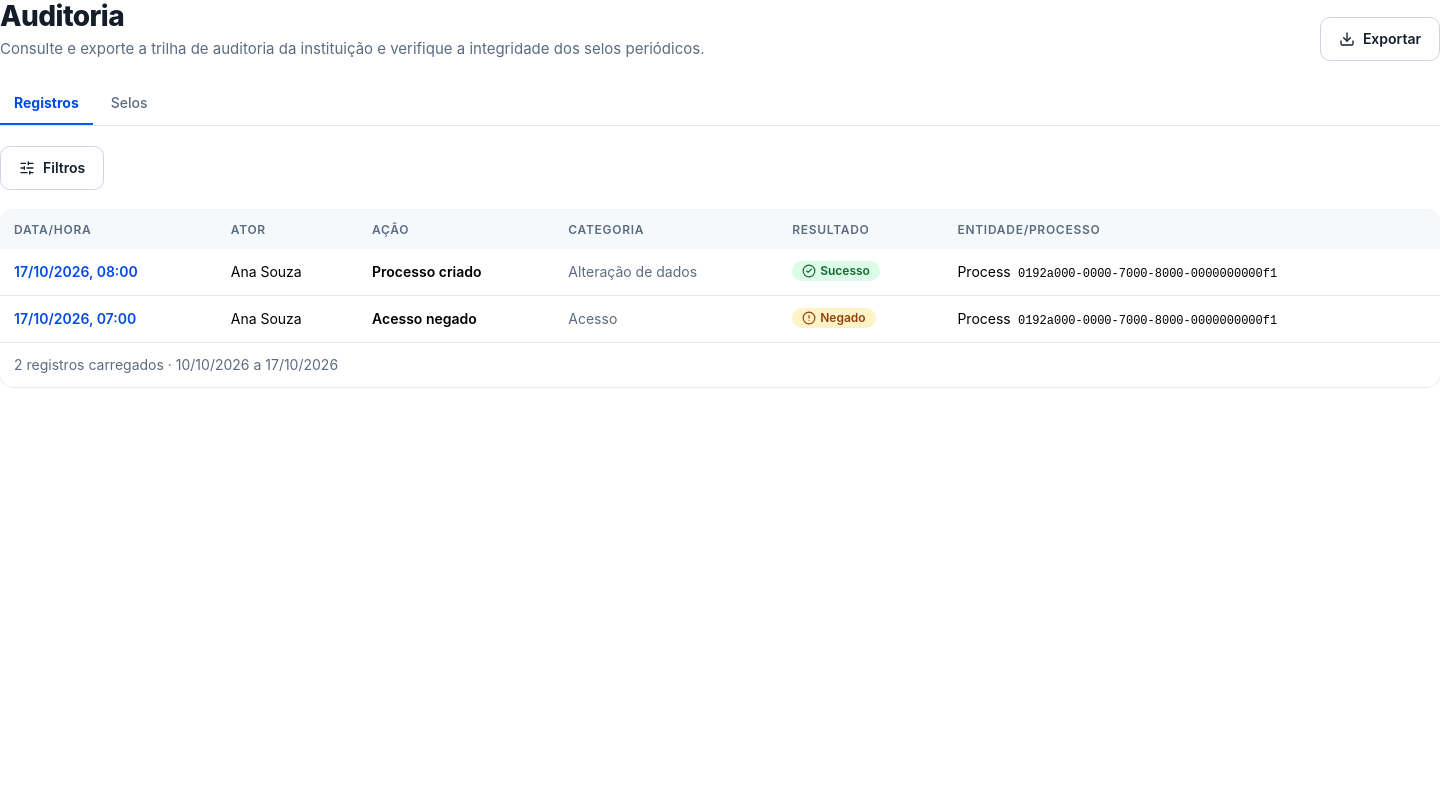
Test: [Sucesso] pesquisar e ver o detalhe (SCR-037 · AUD-01/AUD-02) › filtrar por ação envia a ação e o período; a lista mostra só o que a API devolveu
Expected: the table named "Registros da trilha de auditoria" is shown, [0, 210, 1439, 342]
Click the button "Filtros" at [52, 168], box [0, 146, 104, 190]
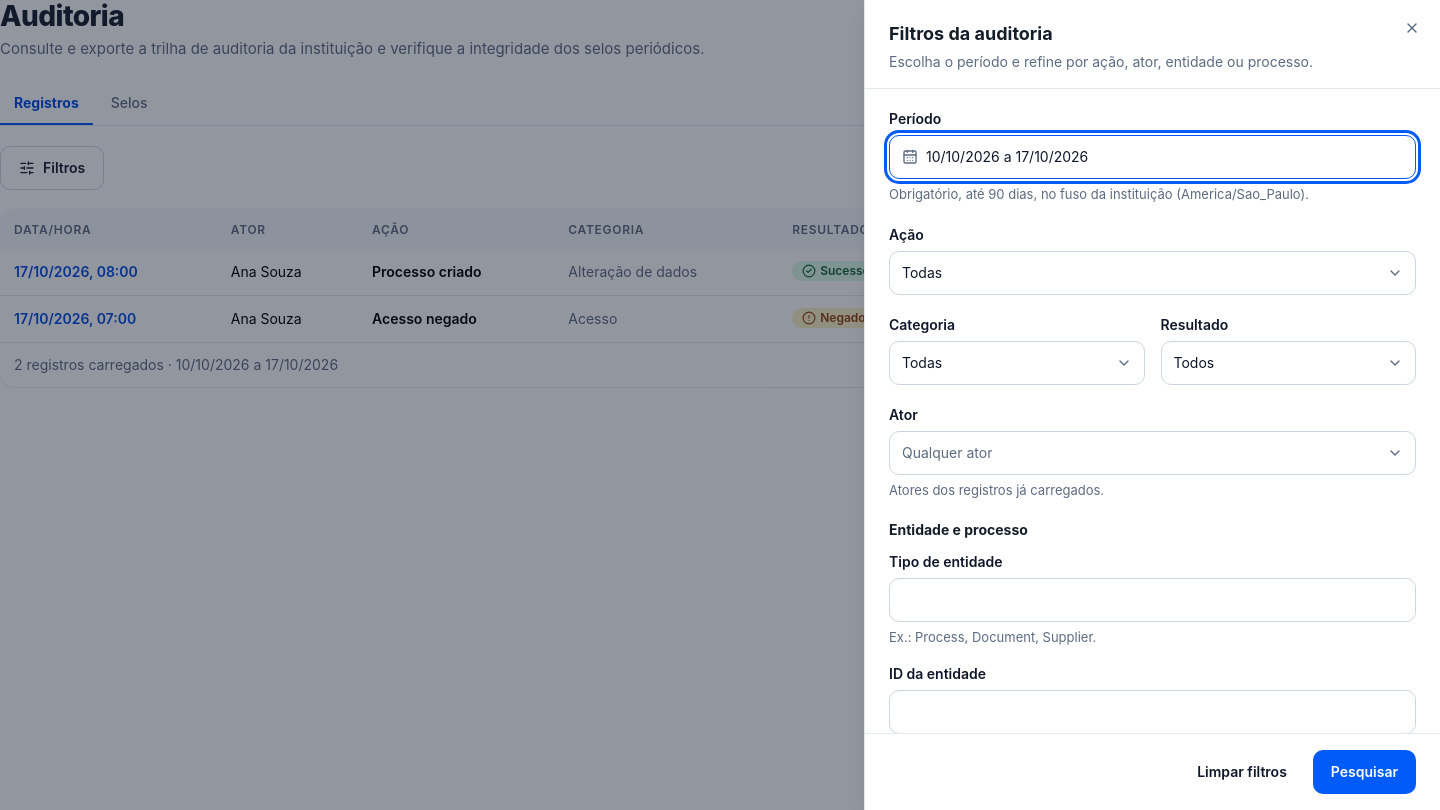
Click the dropdown named "Ação" at [922, 272], box [889, 250, 1416, 294]
(page scrolled)
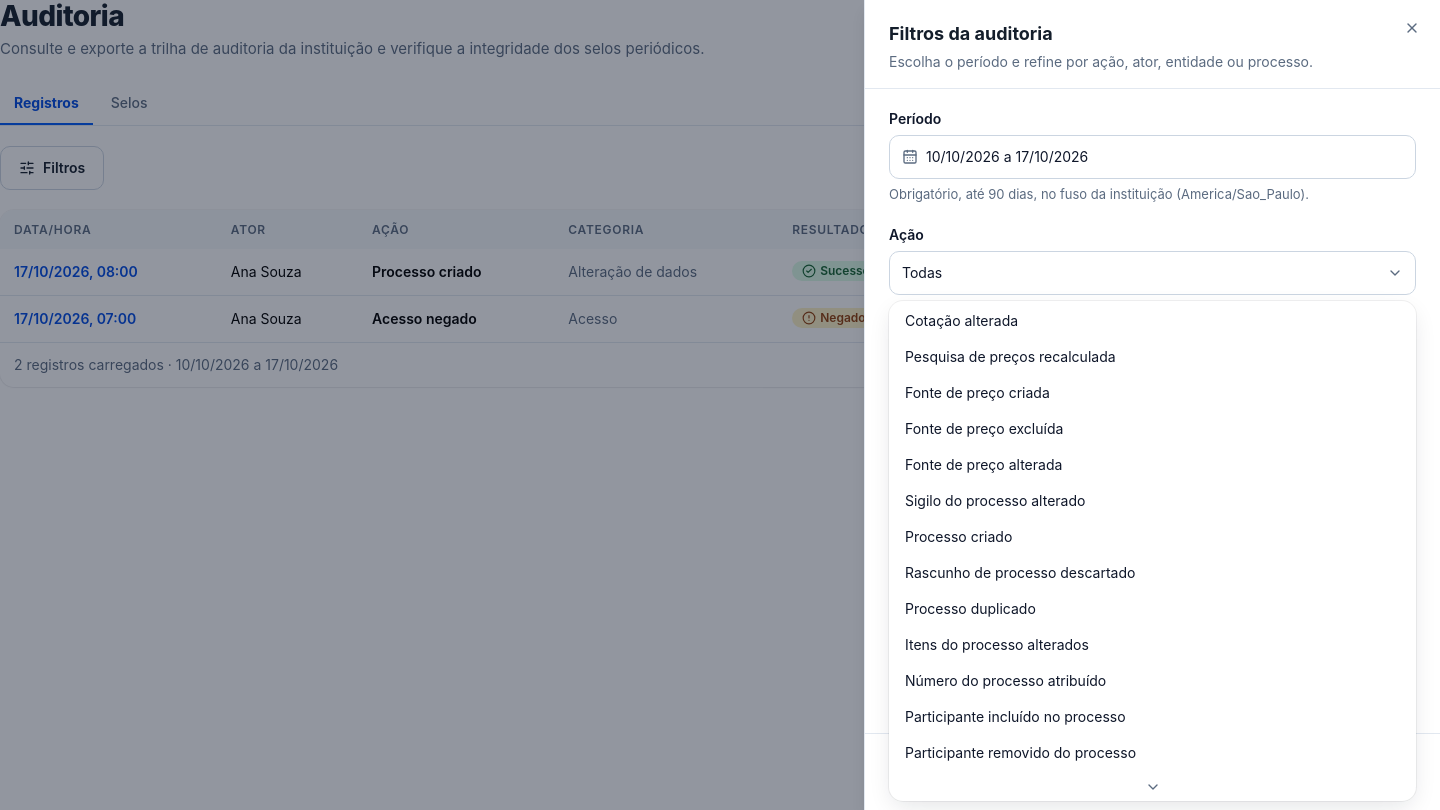
Click the option "Processo criado" at [959, 536], box [905, 528, 1012, 545]
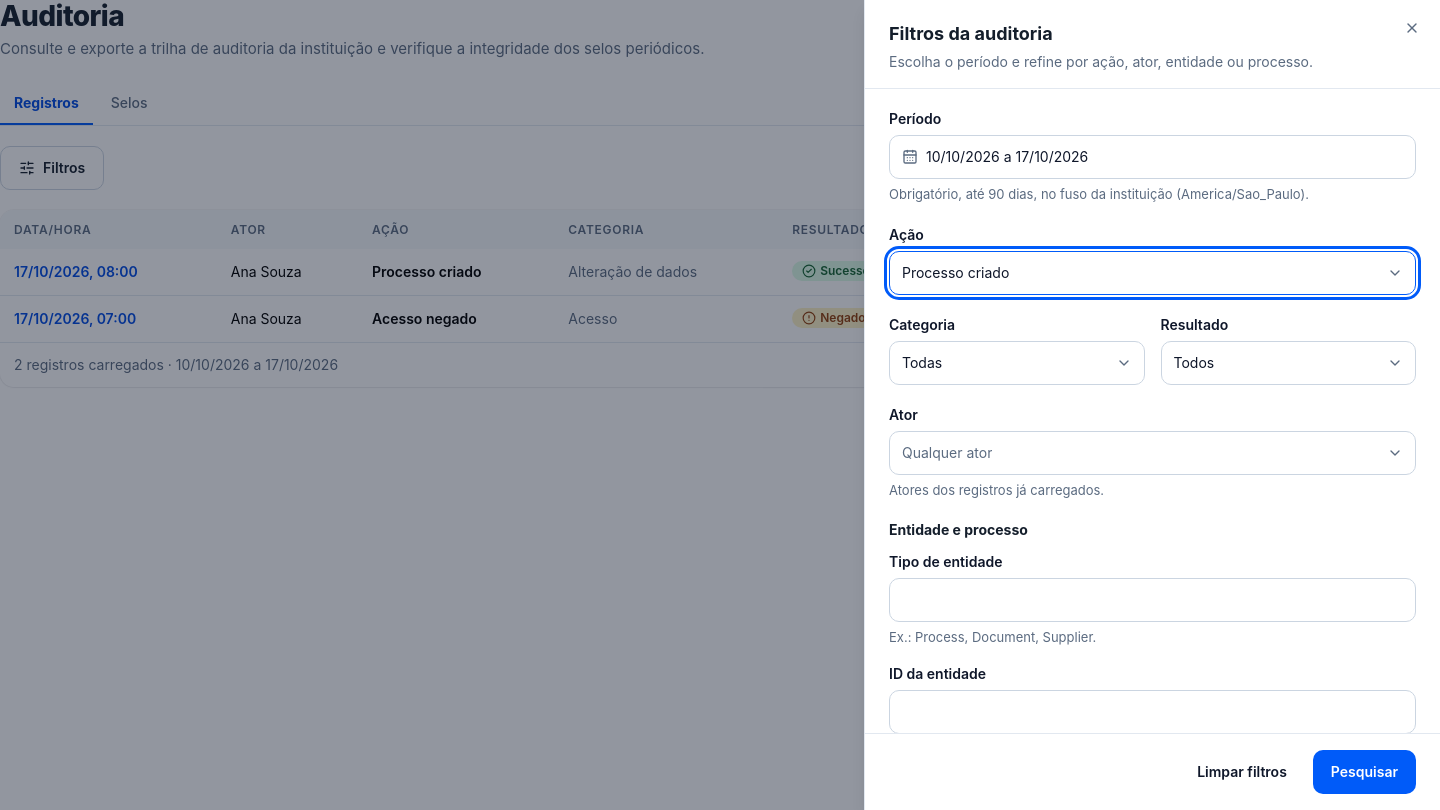
Click the button "Pesquisar" at [1364, 772], box [1313, 750, 1416, 794]
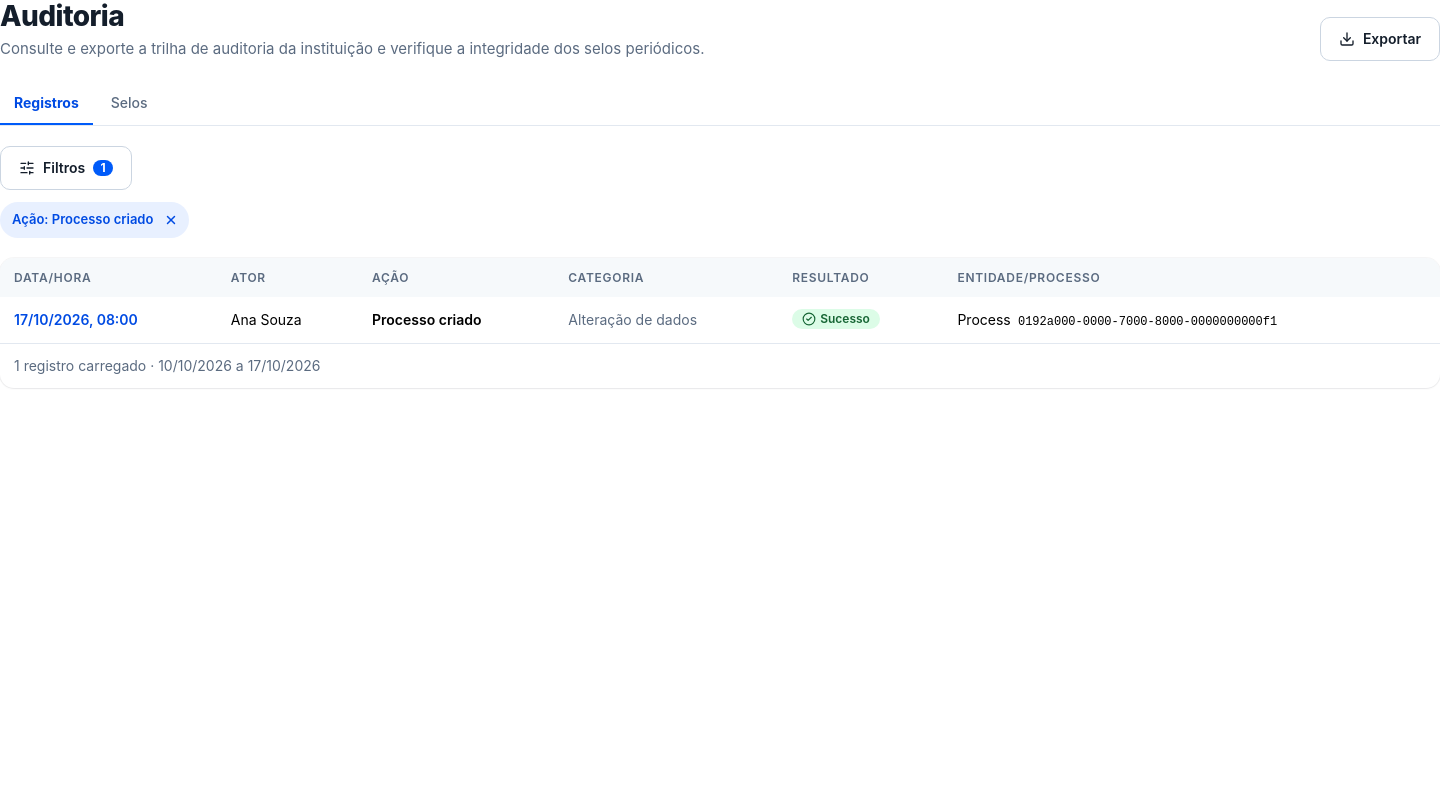
Result: the text "Acesso negado" is gone
Result: the heading "Filtros da auditoria" is gone
Click the button named "Remover o filtro Ação: Processo criado" at [171, 220], box [159, 208, 183, 232]
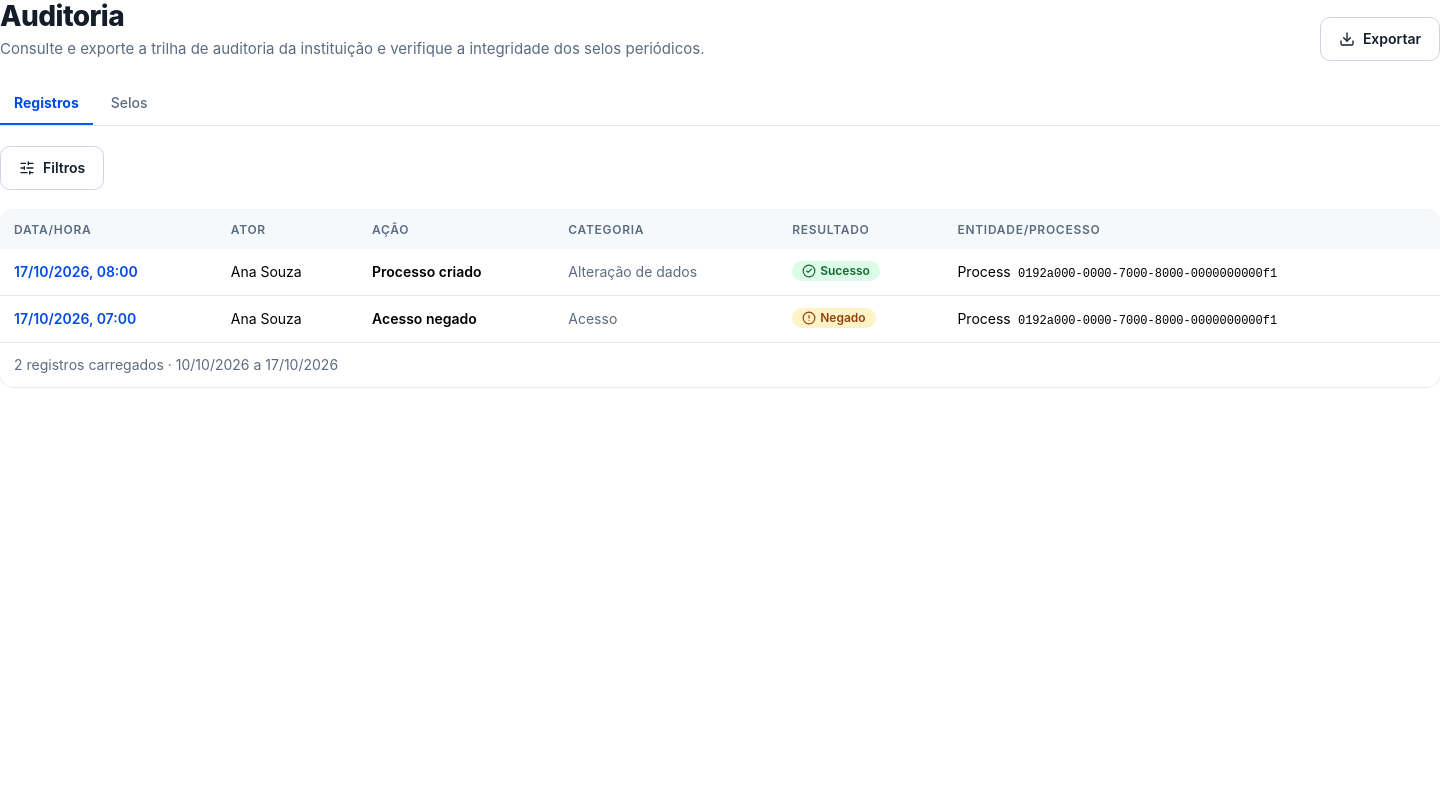
Result: the text "Acesso negado" is shown at [358, 296, 554, 342]
Result: the text "Ação: Processo criado" is gone
